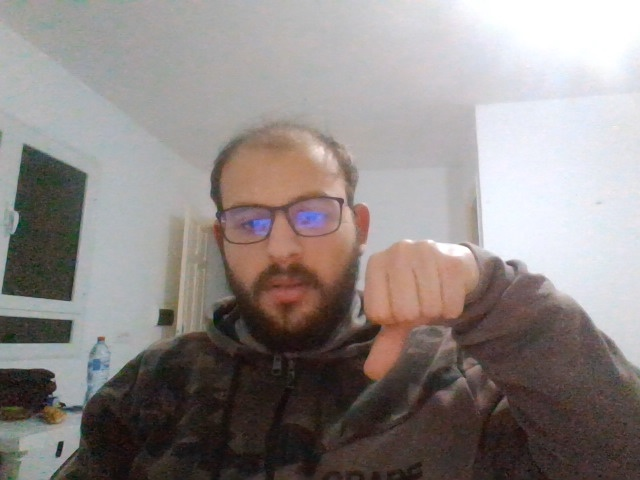Yes: (365, 241, 467, 380)
